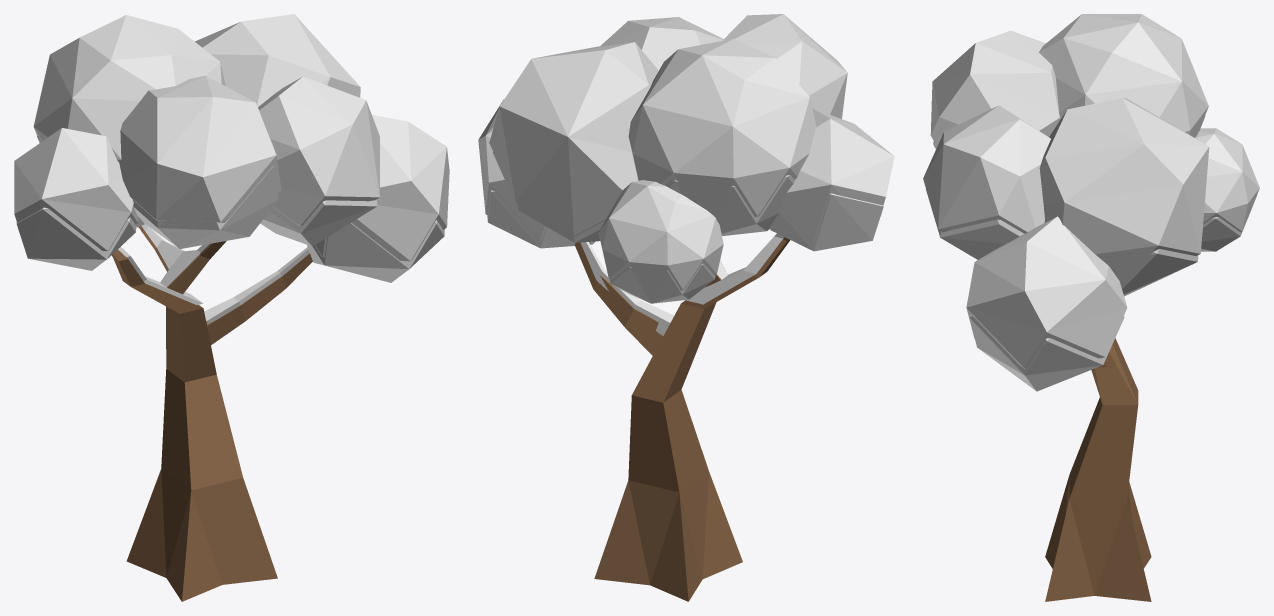
File: tree_winter.fbx
3 renders of one model, left to right at view 1: azimuth 30°, elevation 25°; view 2: azimuth 150°, elevation 25°; view 3: azimuth 270°, elevation 25°, orthographic. The views are drawn at different scales.
Parts seen in each view (by area): view 1: Tree, leaves6.001, leaves5.001, leaves2.001, Leaves.001, leaves3.001, leaves4.001, Leaves, leaves6, leaves3, Tree.001, leaves2; view 2: Tree, leaves5.001, leaves4.001, Leaves1.001, Leaves.001, leaves6.001, Leaves, leaves2.001, Tree.001, leaves5, leaves3.001, Leaves1 (+2 smaller); view 3: leaves4.001, Tree, leaves3.001, leaves5.001, leaves2.001, leaves6.001, Leaves1.001, leaves3, leaves2, leaves4, Leaves1.
Boxes of the visible parts, x1,y1,x2,y2 form: Tree: (111,226,312,601); leaves6.001: (119,75,281,222); leaves5.001: (33,15,225,162); leaves2.001: (258,76,379,225); Leaves.001: (14,128,138,251); leaves3.001: (315,114,449,261); leaves4.001: (195,14,360,106); Leaves: (16,207,136,270); leaves6: (132,165,278,248); leaves3: (307,220,444,282); Tree.001: (118,224,309,323); leaves2: (260,199,377,246); Tree: (574,237,789,601); leaves5.001: (628,38,816,217); leaves4.001: (489,42,658,236); Leaves1.001: (598,180,723,299); Leaves.001: (781,108,894,243); leaves6.001: (722,14,847,118); Leaves: (770,193,884,251); leaves2.001: (600,17,723,70); Tree.001: (580,233,784,335); leaves5: (665,174,794,235); leaves3.001: (478,99,545,240); Leaves1: (610,263,715,303); leaves4.001: (1039,98,1209,283); Tree: (1045,338,1151,601); leaves3.001: (966,216,1127,368); leaves5.001: (1039,14,1208,137); leaves2.001: (923,105,1050,233); leaves6.001: (930,30,1060,141); Leaves1.001: (1195,128,1259,232); leaves3: (969,315,1124,391); leaves2: (926,189,1023,259); leaves4: (1120,249,1198,296); Leaves1: (1201,196,1256,251).
Size of the model in its own units: 90.31 by 112 by 64.53.
